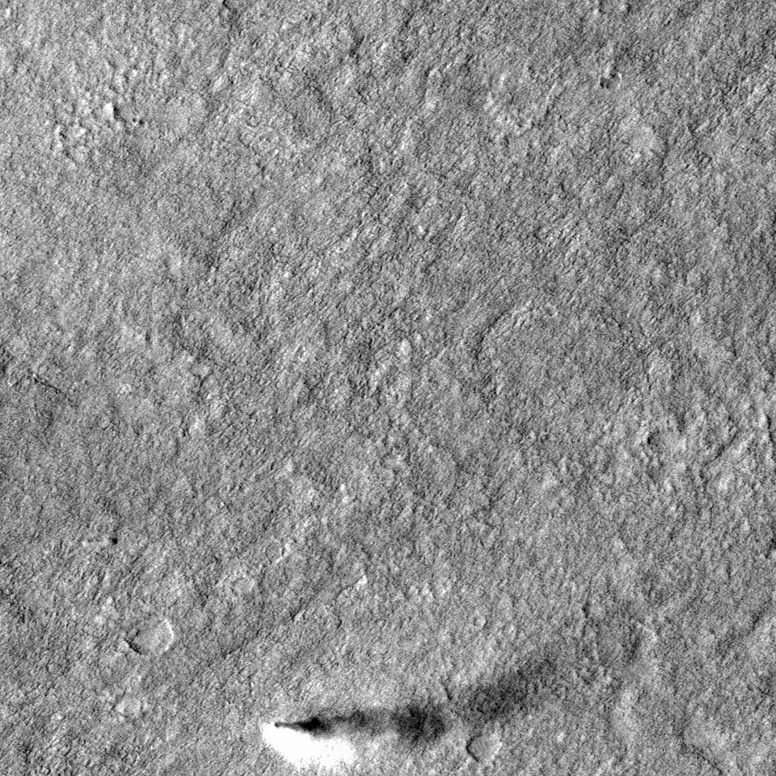dust_devil: (257, 658, 558, 775)
